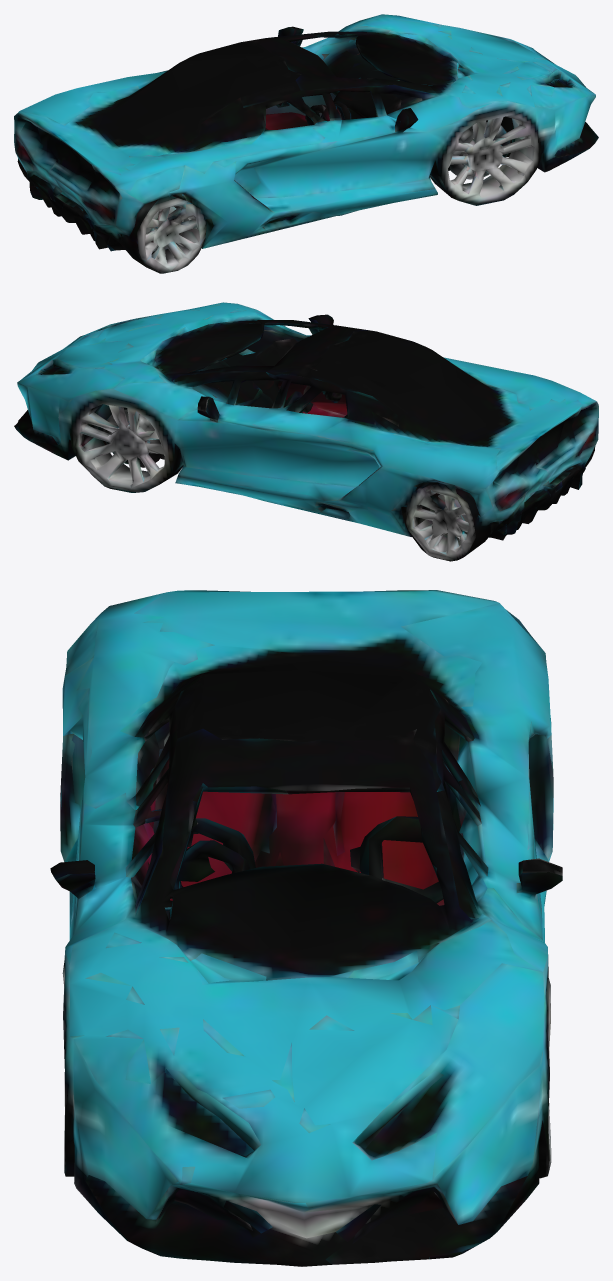
The model's file is raceCar.glb.
3 renders of one model, top to bottom at view 1: azimuth 30°, elevation 25°; view 2: azimuth 150°, elevation 25°; view 3: azimuth 270°, elevation 25°, orthographic. The views are drawn at different scales.
Visible parts, largest first — view 1: material; view 2: material; view 3: material.
Boxes of the visible parts, x1,y1,x2,y2 form: material: [14, 14, 598, 273]; material: [14, 302, 598, 561]; material: [50, 590, 562, 1266].
Bounding box in the file's own units: 1.17 × 0.2988 × 0.4997.
1 material, 1 textured.
